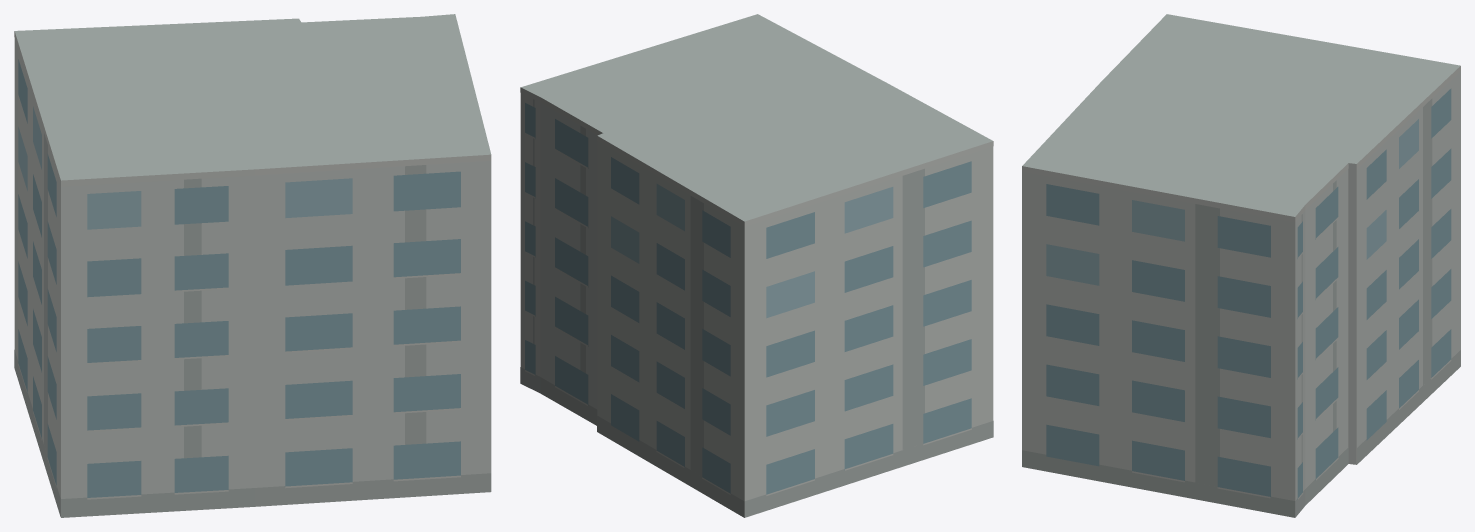
Rendered from survey-upis-32530671.glb.
3 views of the same model, side by side, from view 1: azimuth 30°, elevation 25°; view 2: azimuth 150°, elevation 25°; view 3: azimuth 270°, elevation 25° (orthographic). The views are drawn at different scales.
Parts seen in each view (by area): view 1: survey-upis-32530671.tmp; view 2: survey-upis-32530671.tmp; view 3: survey-upis-32530671.tmp.
Boxes of the visible parts, left/top/right/bottom form: survey-upis-32530671.tmp: left=14, top=14, right=491, bottom=517; survey-upis-32530671.tmp: left=520, top=14, right=993, bottom=517; survey-upis-32530671.tmp: left=1022, top=14, right=1460, bottom=517.
Bounding box in the file's own units: 19.25 × 13.3 × 17.58.
